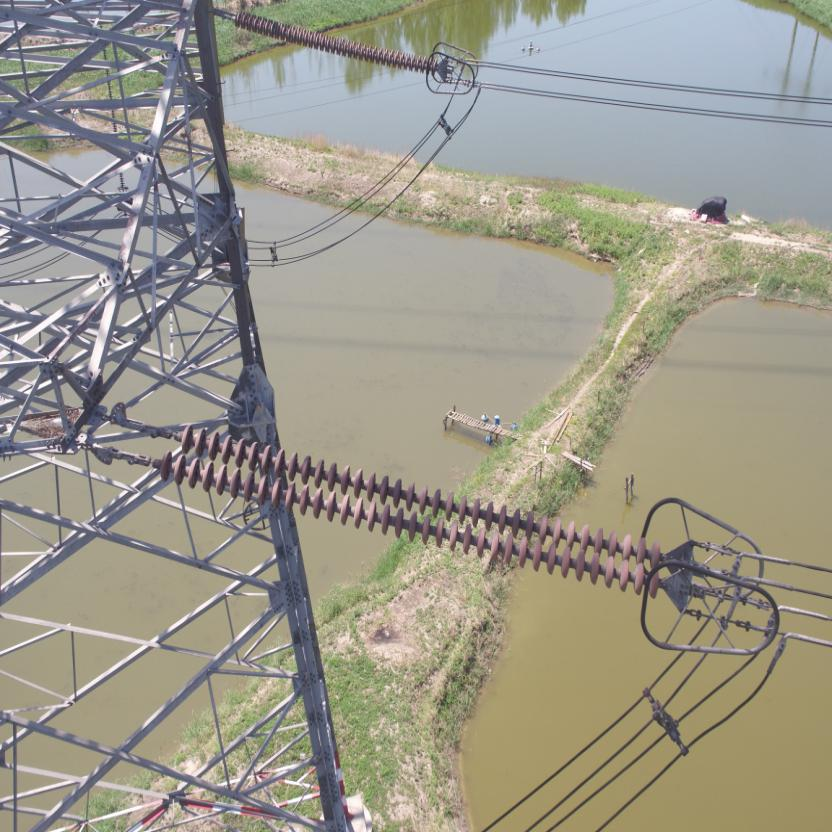insulator: (140, 419, 675, 599), (221, 6, 440, 78)
